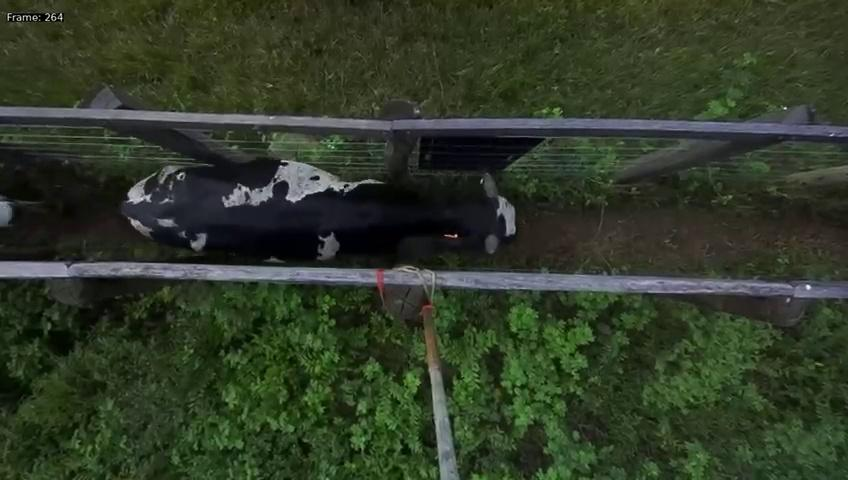cattle: (115, 144, 520, 276)
